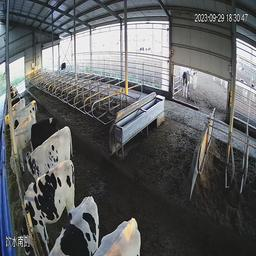cow: (15, 158, 77, 226), (35, 199, 101, 255), (13, 120, 75, 178), (86, 213, 149, 254), (4, 92, 40, 143), (178, 67, 192, 101), (191, 64, 198, 93)
